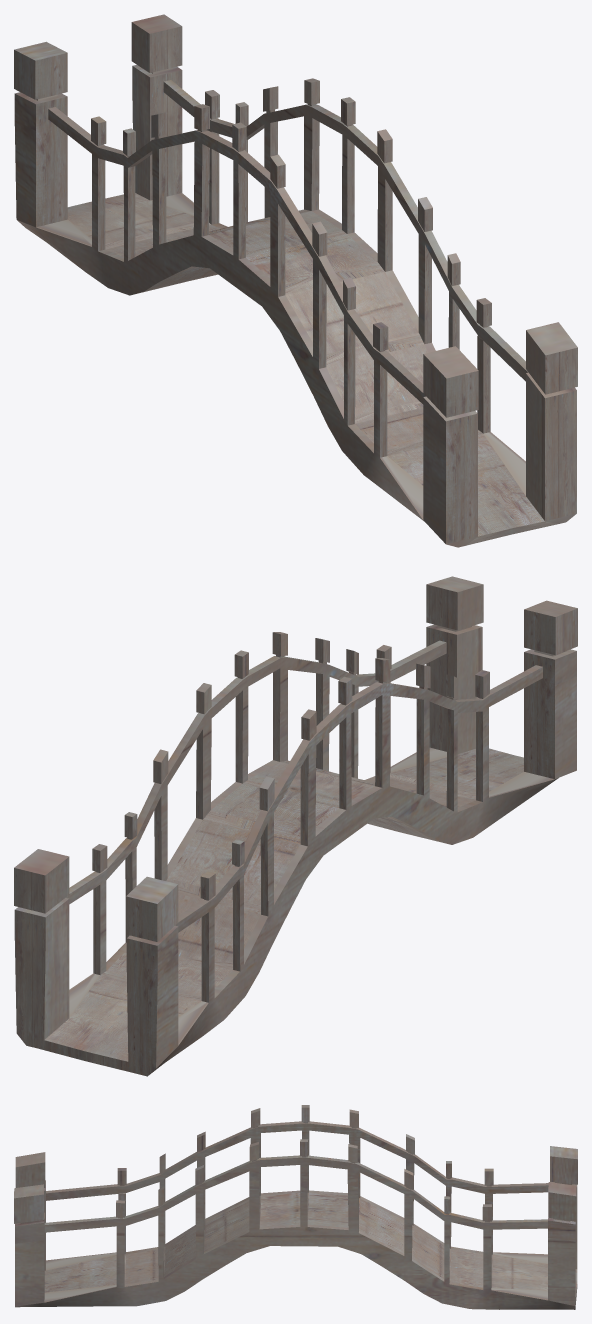
File: portal.obj
The picture shows the model from 3 angles, top to bottom: view 1: azimuth 30°, elevation 25°; view 2: azimuth 150°, elevation 25°; view 3: azimuth 270°, elevation 25°; orthographic projection. The views are drawn at different scales.
Visible parts, largest first — view 1: pCube1; view 2: pCube1; view 3: pCube1.
Boxes of the visible parts, bbox=[...] form: pCube1: bbox=[14, 14, 577, 547]; pCube1: bbox=[14, 576, 577, 1076]; pCube1: bbox=[14, 1105, 577, 1309].
Size of the model in its own units: 0.152 by 0.252 by 0.7668.
